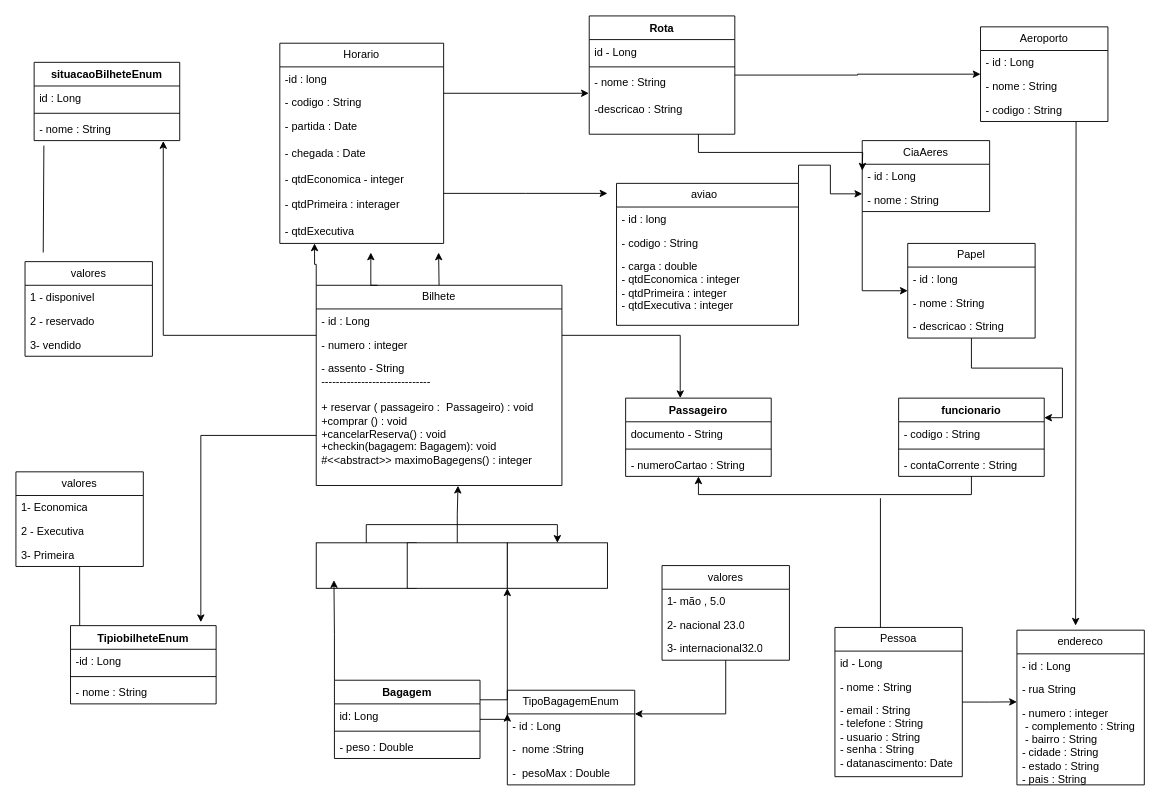
Image size: 1160x804. Some labels were removed from this diagram. The centre of each missing label's shape, as x and y in pixels:
"Economica" belongs at pixel 365 565.
"Executiva" belongs at pixel 556 565.
"Primeira" belongs at pixel 456 565.
